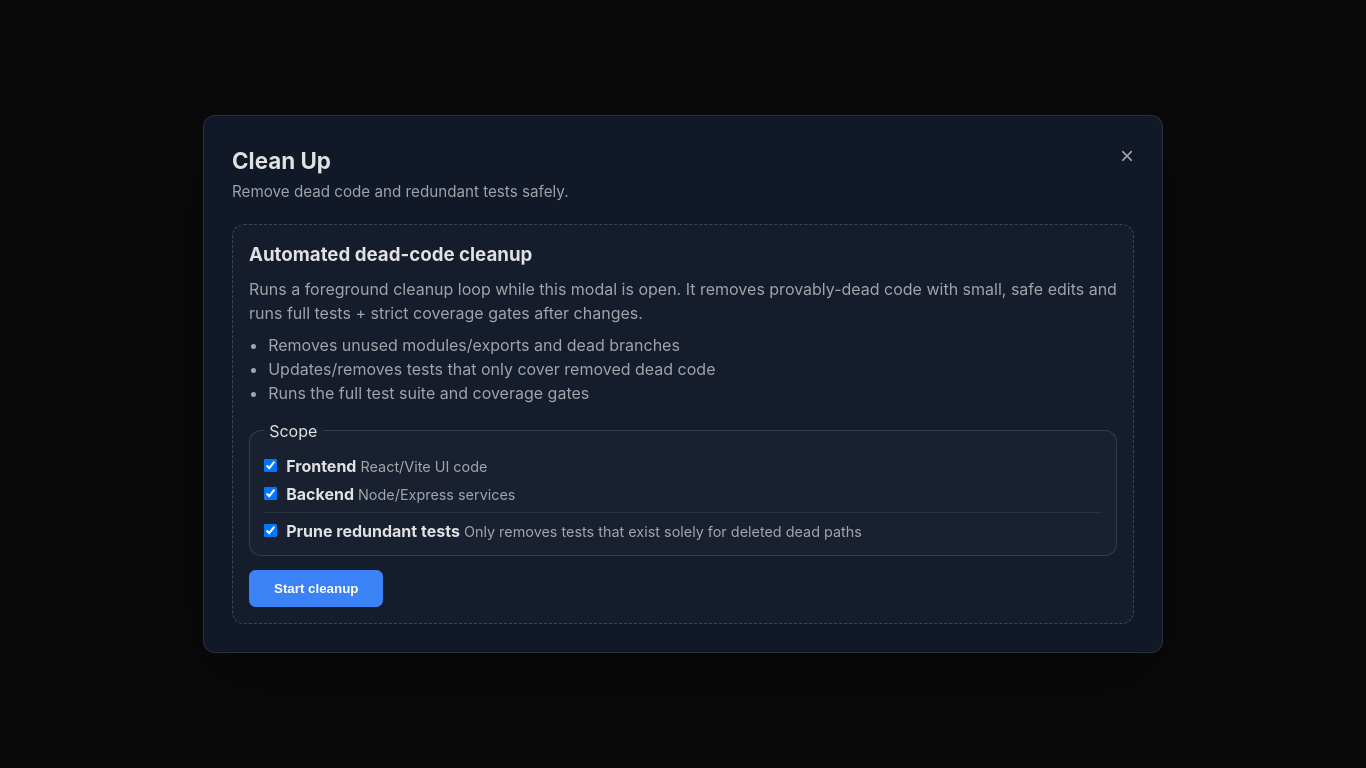
Test case: CleanUpToolModal › starts a cleanup stream and switches to the progress view
Step 1. Click the button with test id "tool-cleanup-start" → x=316, y=588, box left=249, top=570, right=383, bottom=607
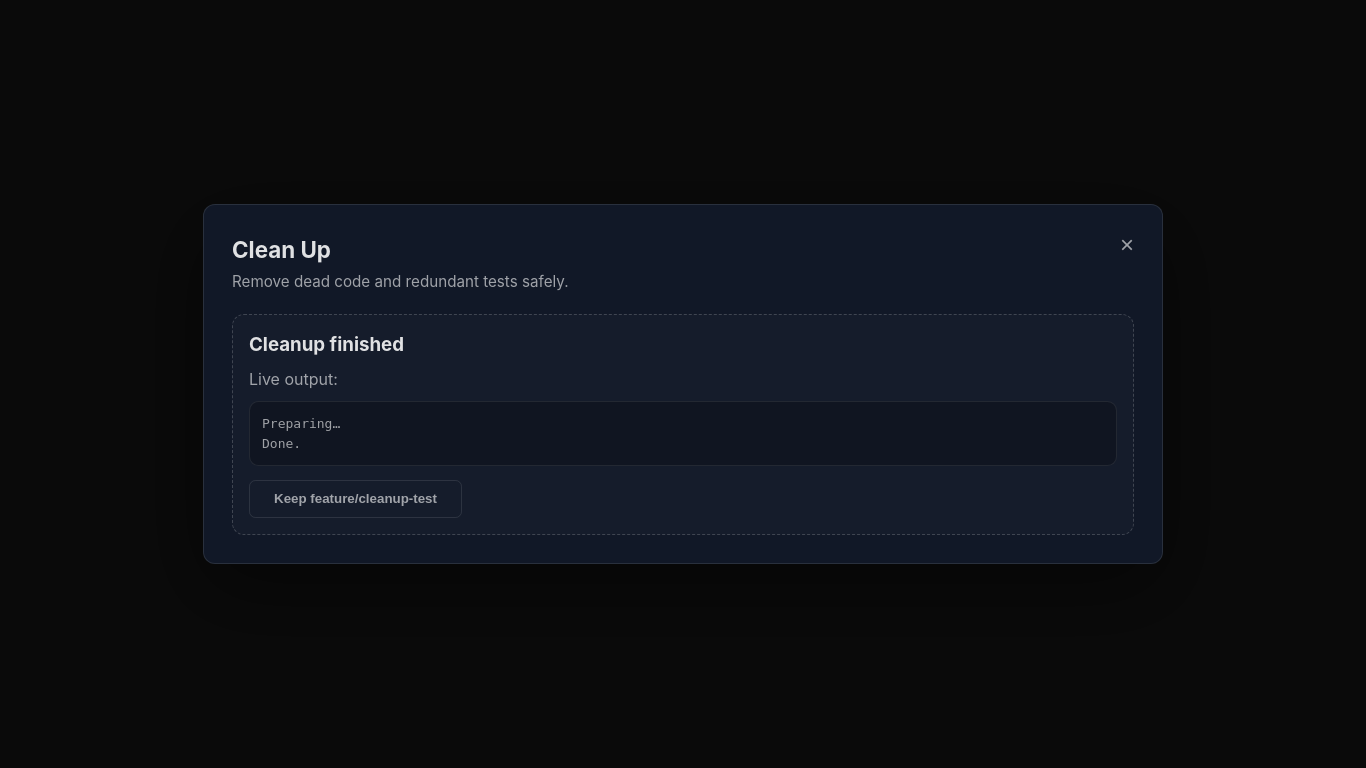
Expected: the element with test id "tool-cleanup-progress" is shown, left=249, top=331, right=1117, bottom=518
Expected: the text with test id "tool-cleanup-progress-log" shows "Preparing", left=262, top=416, right=340, bottom=431
Expected: the button with test id "tool-cleanup-keep-branch" is shown, left=249, top=480, right=462, bottom=518
